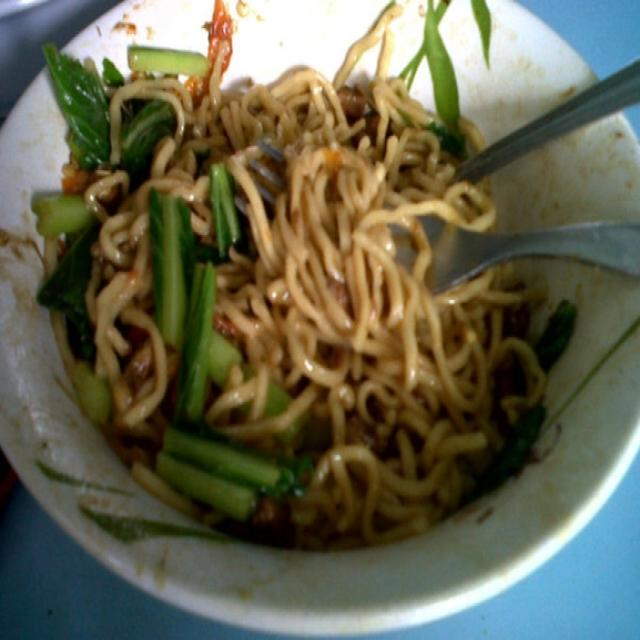面条主食: (44, 31, 594, 588)
